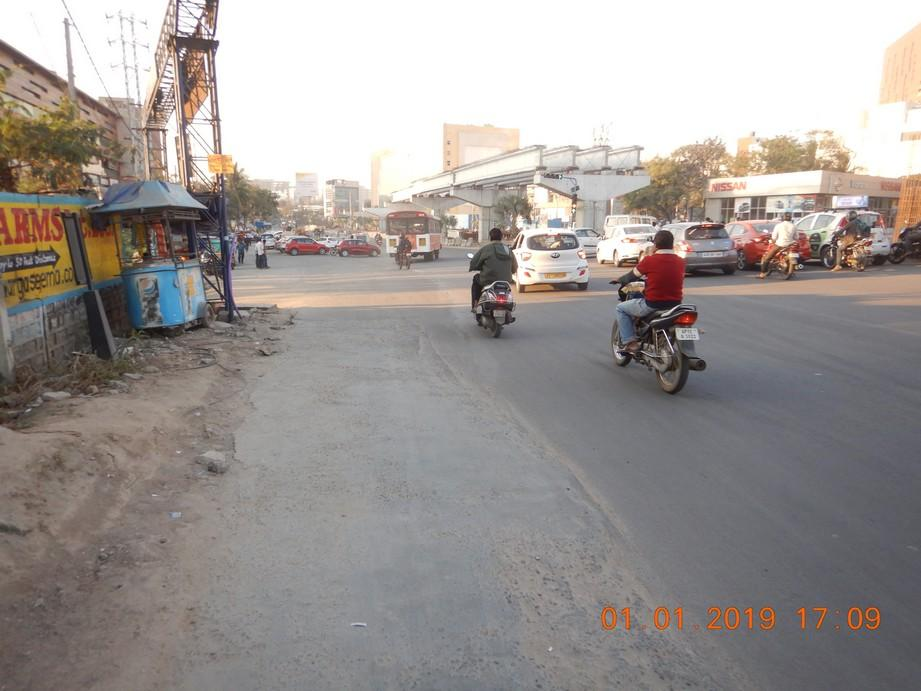plate: (675, 326, 699, 341)
